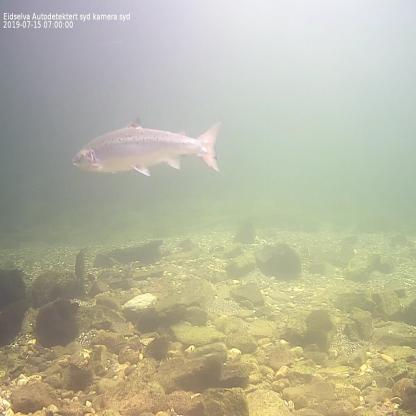salmon: (69, 115, 224, 182)
